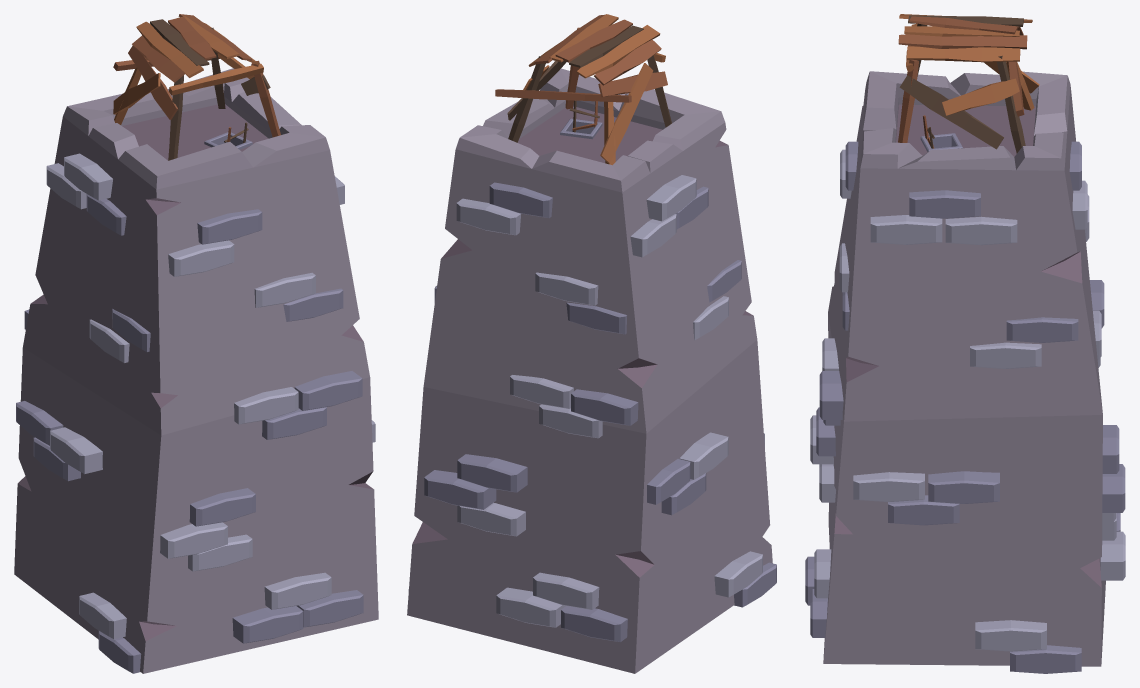
File: Tower.fbx
The picture shows the model from 3 angles, left to right: view 1: azimuth 30°, elevation 25°; view 2: azimuth 150°, elevation 25°; view 3: azimuth 270°, elevation 25°; orthographic projection. The views are drawn at different scales.
Parts seen in each view (by area): view 1: Tower; view 2: Tower; view 3: Tower.
Part boxes in pixels (bbox=[...]): Tower: bbox=[14, 14, 378, 673]; Tower: bbox=[407, 14, 776, 673]; Tower: bbox=[805, 14, 1125, 673].
Bounding box in the file's own units: 74.42 × 154 × 76.07.
